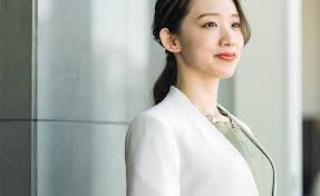person - v3 P: (144, 3, 286, 196)
